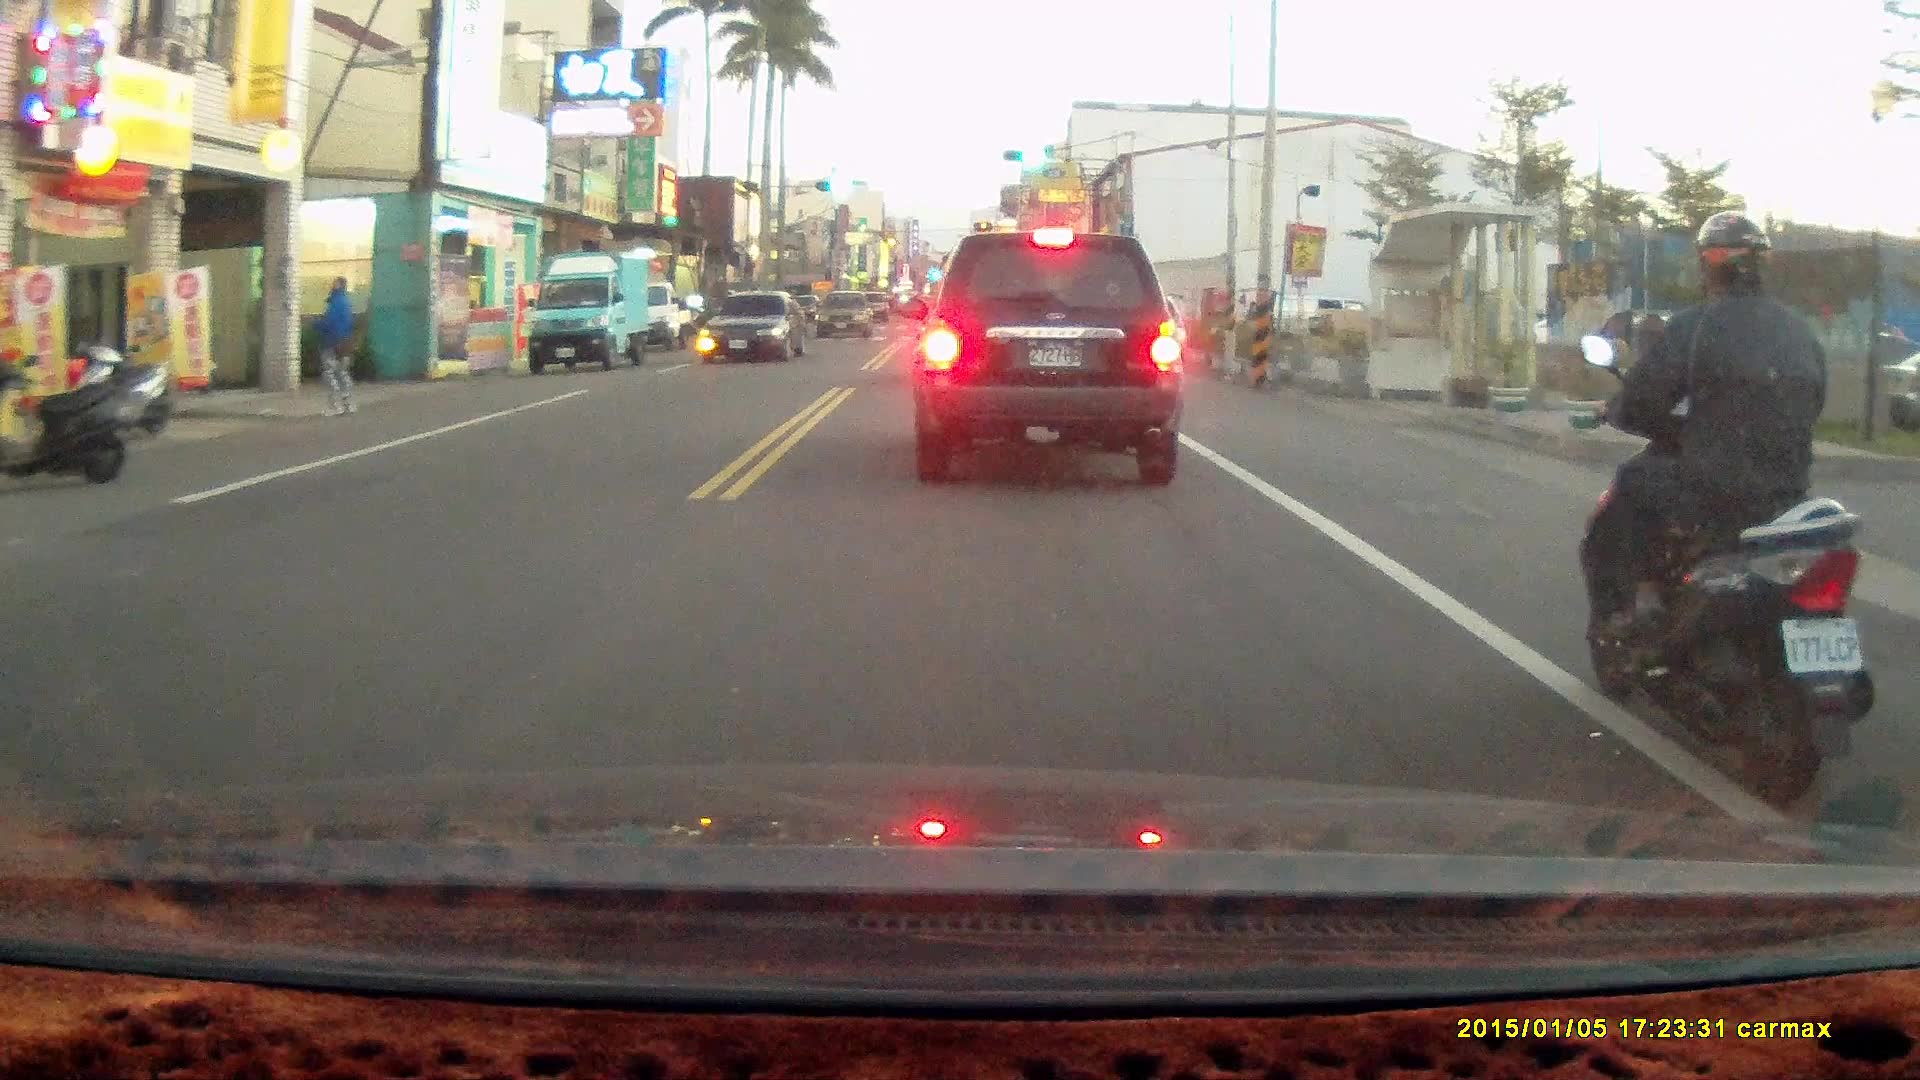pedestrian: (304, 274, 361, 421)
rider: (1574, 208, 1876, 807)
vehicle: (908, 231, 1192, 485), (532, 249, 657, 374), (697, 291, 809, 365), (817, 293, 876, 340)
